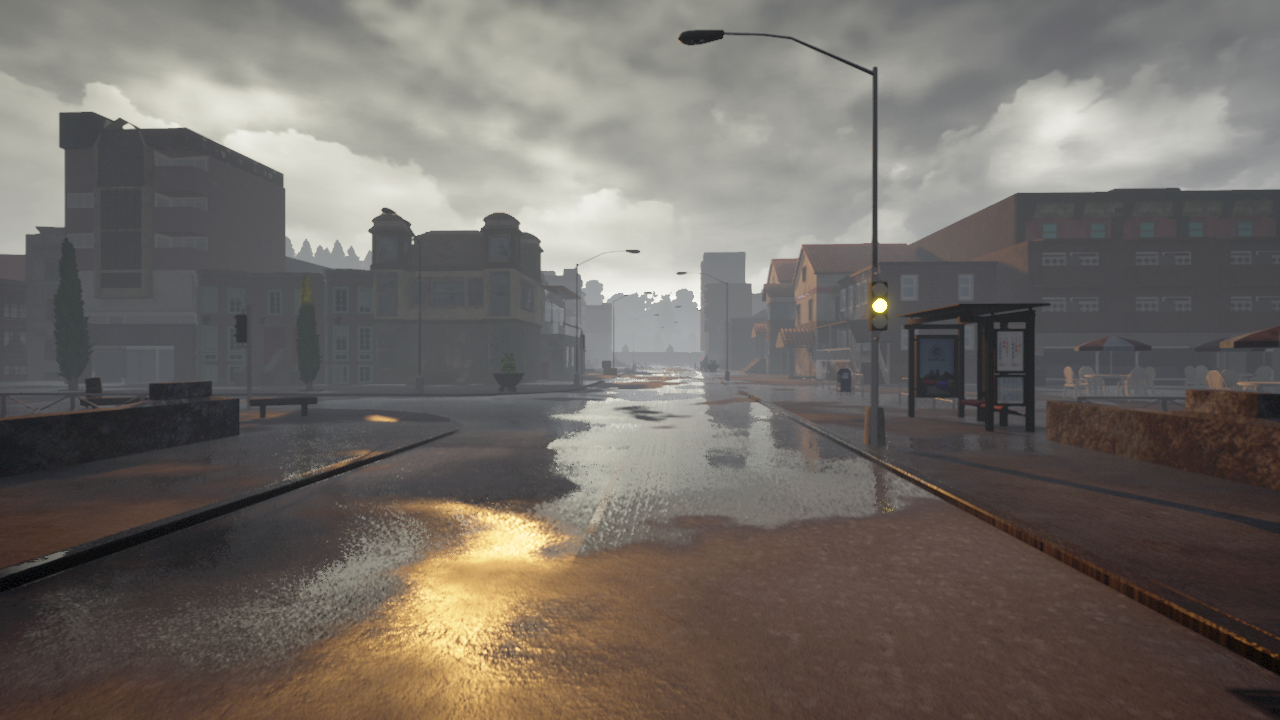yellow: (865, 279, 891, 333)
